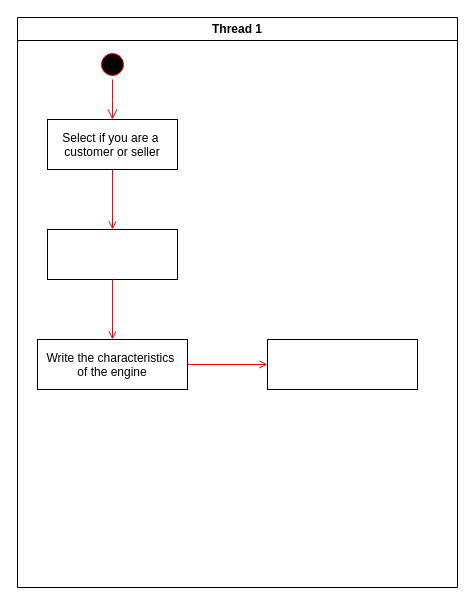
Image size: 475x605. Some labels were removed from this diagram. The centre of each missing label's shape, as x and y in pixels:
Select the create engine option: point 112,254
store engine in the dictionary "engines": point 342,364
